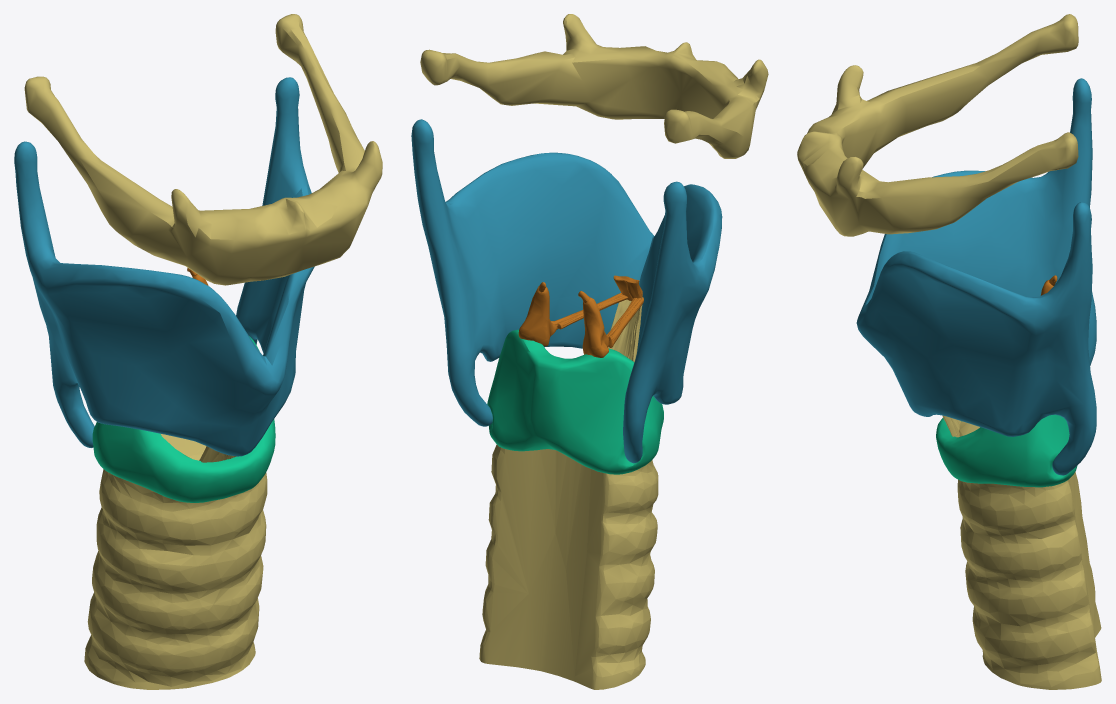
File: fbx_frame_0029.obj
The picture shows the model from 3 angles, left to right: view 1: azimuth 30°, elevation 25°; view 2: azimuth 150°, elevation 25°; view 3: azimuth 270°, elevation 25°; orthographic projection. The views are drawn at different scales.
Visible parts, largest first — view 1: maya2sketchfab.010, maya2sketchfab.001, maya2sketchfab.011, maya2sketchfab.005; view 2: maya2sketchfab.010, maya2sketchfab.001, maya2sketchfab.011, maya2sketchfab.005, maya2sketchfab.006, maya2sketchfab.004, maya2sketchfab.008, maya2sketchfab.009; view 3: maya2sketchfab.010, maya2sketchfab.001, maya2sketchfab.011, maya2sketchfab.005.
Part boxes in pixels (x1,y1,x2,y2): maya2sketchfab.010: (14,77,314,456); maya2sketchfab.001: (84,434,267,689); maya2sketchfab.011: (24,14,382,285); maya2sketchfab.005: (92,336,275,502); maya2sketchfab.010: (411,119,722,463); maya2sketchfab.001: (479,297,658,689); maya2sketchfab.011: (420,14,768,158); maya2sketchfab.005: (487,329,663,474); maya2sketchfab.006: (518,282,557,346); maya2sketchfab.004: (578,291,609,357); maya2sketchfab.008: (607,297,643,347); maya2sketchfab.009: (551,293,628,329); maya2sketchfab.010: (856,78,1096,475); maya2sketchfab.001: (942,415,1101,689); maya2sketchfab.011: (797,14,1078,236); maya2sketchfab.005: (936,414,1077,487).
Bounding box in the file's own units: 38.66 × 78.68 × 37.54.
